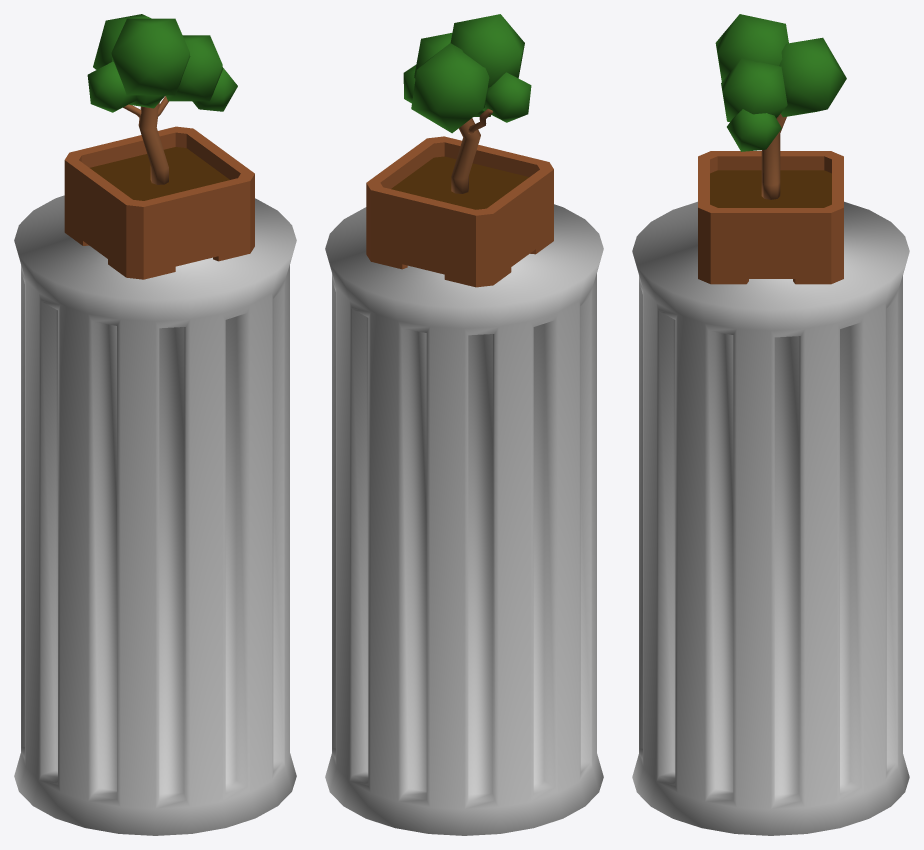
The model's file is bonsai_pillar.glb.
The picture shows the model from 3 angles, left to right: view 1: azimuth 30°, elevation 25°; view 2: azimuth 150°, elevation 25°; view 3: azimuth 270°, elevation 25°; orthographic projection.
Visible parts, largest first — view 1: Cylinder, Cylinder.001; view 2: Cylinder, Cylinder.001; view 3: Cylinder, Cylinder.001.
Boxes of the visible parts, bbox=[...] form: Cylinder: bbox=[14, 195, 296, 835]; Cylinder.001: bbox=[64, 14, 254, 279]; Cylinder: bbox=[325, 204, 603, 835]; Cylinder.001: bbox=[366, 14, 553, 287]; Cylinder: bbox=[632, 201, 909, 835]; Cylinder.001: bbox=[698, 14, 846, 284].
Bounding box in the file's own units: 2.1 × 6.3 × 2.1.
